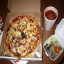pizza: (6, 12, 40, 57)
